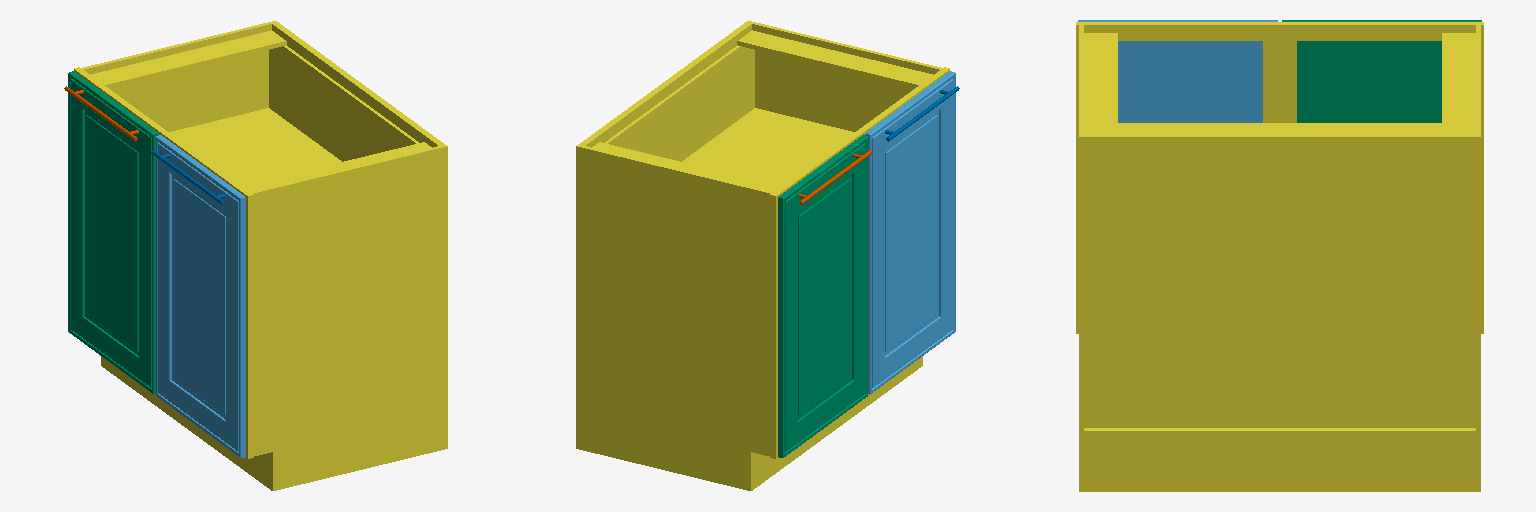
robot.urdf — partnet_1676f8b995b976e5824662341ce2b233:
<?xml version="1.0" ?>
<robot name="partnet_1676f8b995b976e5824662341ce2b233">
	<link name="base"/>
	<link name="link_0">
		<visual name="cabinet_door_surface-8">
			<origin xyz="-0.6293170790203719 -0.6086450219154358 -0.4252905637110561"/>
			<geometry>
				<mesh filename="textured_objs/original-43.obj"/>
			</geometry>
		</visual>
		<visual name="cabinet_door_surface-8">
			<origin xyz="-0.6293170790203719 -0.6086450219154358 -0.4252905637110561"/>
			<geometry>
				<mesh filename="textured_objs/original-48.obj"/>
			</geometry>
		</visual>
		<visual name="cabinet_door_surface-8">
			<origin xyz="-0.6293170790203719 -0.6086450219154358 -0.4252905637110561"/>
			<geometry>
				<mesh filename="textured_objs/original-44.obj"/>
			</geometry>
		</visual>
		<visual name="cabinet_door_surface-8">
			<origin xyz="-0.6293170790203719 -0.6086450219154358 -0.4252905637110561"/>
			<geometry>
				<mesh filename="textured_objs/original-50.obj"/>
			</geometry>
		</visual>
		<visual name="cabinet_door_surface-8">
			<origin xyz="-0.6293170790203719 -0.6086450219154358 -0.4252905637110561"/>
			<geometry>
				<mesh filename="textured_objs/original-49.obj"/>
			</geometry>
		</visual>
		<visual name="cabinet_door_surface-8">
			<origin xyz="-0.6293170790203719 -0.6086450219154358 -0.4252905637110561"/>
			<geometry>
				<mesh filename="textured_objs/original-47.obj"/>
			</geometry>
		</visual>
		<visual name="cabinet_door_surface-8">
			<origin xyz="-0.6293170790203719 -0.6086450219154358 -0.4252905637110561"/>
			<geometry>
				<mesh filename="textured_objs/original-46.obj"/>
			</geometry>
		</visual>
		<visual name="cabinet_door_surface-8">
			<origin xyz="-0.6293170790203719 -0.6086450219154358 -0.4252905637110561"/>
			<geometry>
				<mesh filename="textured_objs/original-51.obj"/>
			</geometry>
		</visual>
		<visual name="cabinet_door_surface-8">
			<origin xyz="-0.6293170790203719 -0.6086450219154358 -0.4252905637110561"/>
			<geometry>
				<mesh filename="textured_objs/original-45.obj"/>
			</geometry>
		</visual>
		<visual name="cabinet_door_surface-8">
			<origin xyz="-0.6293170790203719 -0.6086450219154358 -0.4252905637110561"/>
			<geometry>
				<mesh filename="textured_objs/original-42.obj"/>
			</geometry>
		</visual>
		<collision>
			<origin xyz="-0.6293170790203719 -0.6086450219154358 -0.4252905637110561"/>
			<geometry>
				<mesh filename="textured_objs/original-43.obj"/>
			</geometry>
		</collision>
		<collision>
			<origin xyz="-0.6293170790203719 -0.6086450219154358 -0.4252905637110561"/>
			<geometry>
				<mesh filename="textured_objs/original-48.obj"/>
			</geometry>
		</collision>
		<collision>
			<origin xyz="-0.6293170790203719 -0.6086450219154358 -0.4252905637110561"/>
			<geometry>
				<mesh filename="textured_objs/original-44.obj"/>
			</geometry>
		</collision>
		<collision>
			<origin xyz="-0.6293170790203719 -0.6086450219154358 -0.4252905637110561"/>
			<geometry>
				<mesh filename="textured_objs/original-50.obj"/>
			</geometry>
		</collision>
		<collision>
			<origin xyz="-0.6293170790203719 -0.6086450219154358 -0.4252905637110561"/>
			<geometry>
				<mesh filename="textured_objs/original-49.obj"/>
			</geometry>
		</collision>
		<collision>
			<origin xyz="-0.6293170790203719 -0.6086450219154358 -0.4252905637110561"/>
			<geometry>
				<mesh filename="textured_objs/original-47.obj"/>
			</geometry>
		</collision>
		<collision>
			<origin xyz="-0.6293170790203719 -0.6086450219154358 -0.4252905637110561"/>
			<geometry>
				<mesh filename="textured_objs/original-46.obj"/>
			</geometry>
		</collision>
		<collision>
			<origin xyz="-0.6293170790203719 -0.6086450219154358 -0.4252905637110561"/>
			<geometry>
				<mesh filename="textured_objs/original-51.obj"/>
			</geometry>
		</collision>
		<collision>
			<origin xyz="-0.6293170790203719 -0.6086450219154358 -0.4252905637110561"/>
			<geometry>
				<mesh filename="textured_objs/original-45.obj"/>
			</geometry>
		</collision>
		<collision>
			<origin xyz="-0.6293170790203719 -0.6086450219154358 -0.4252905637110561"/>
			<geometry>
				<mesh filename="textured_objs/original-42.obj"/>
			</geometry>
		</collision>
	</link>
	<joint name="joint_0" type="revolute">
		<origin xyz="0.6293170790203719 0.6086450219154358 0.4252905637110561"/>
		<axis xyz="0 0.9999999999999999 0"/>
		<child link="link_0"/>
		<parent link="link_2"/>
		<limit lower="0.0" upper="1.5707963267948966"/>
	</joint>
	<link name="link_1">
		<visual name="cabinet_door_surface-6">
			<origin xyz="0.6466144835367729 -0.6086450219154358 -0.42931528988591117"/>
			<geometry>
				<mesh filename="textured_objs/original-30.obj"/>
			</geometry>
		</visual>
		<visual name="cabinet_door_surface-6">
			<origin xyz="0.6466144835367729 -0.6086450219154358 -0.42931528988591117"/>
			<geometry>
				<mesh filename="textured_objs/original-34.obj"/>
			</geometry>
		</visual>
		<visual name="cabinet_door_surface-6">
			<origin xyz="0.6466144835367729 -0.6086450219154358 -0.42931528988591117"/>
			<geometry>
				<mesh filename="textured_objs/original-26.obj"/>
			</geometry>
		</visual>
		<visual name="cabinet_door_surface-6">
			<origin xyz="0.6466144835367729 -0.6086450219154358 -0.42931528988591117"/>
			<geometry>
				<mesh filename="textured_objs/original-32.obj"/>
			</geometry>
		</visual>
		<visual name="cabinet_door_surface-6">
			<origin xyz="0.6466144835367729 -0.6086450219154358 -0.42931528988591117"/>
			<geometry>
				<mesh filename="textured_objs/original-25.obj"/>
			</geometry>
		</visual>
		<visual name="cabinet_door_surface-6">
			<origin xyz="0.6466144835367729 -0.6086450219154358 -0.42931528988591117"/>
			<geometry>
				<mesh filename="textured_objs/original-33.obj"/>
			</geometry>
		</visual>
		<visual name="cabinet_door_surface-6">
			<origin xyz="0.6466144835367729 -0.6086450219154358 -0.42931528988591117"/>
			<geometry>
				<mesh filename="textured_objs/original-35.obj"/>
			</geometry>
		</visual>
		<visual name="cabinet_door_surface-6">
			<origin xyz="0.6466144835367729 -0.6086450219154358 -0.42931528988591117"/>
			<geometry>
				<mesh filename="textured_objs/original-27.obj"/>
			</geometry>
		</visual>
		<visual name="cabinet_door_surface-6">
			<origin xyz="0.6466144835367729 -0.6086450219154358 -0.42931528988591117"/>
			<geometry>
				<mesh filename="textured_objs/original-28.obj"/>
			</geometry>
		</visual>
		<visual name="cabinet_door_surface-6">
			<origin xyz="0.6466144835367729 -0.6086450219154358 -0.42931528988591117"/>
			<geometry>
				<mesh filename="textured_objs/original-31.obj"/>
			</geometry>
		</visual>
		<collision>
			<origin xyz="0.6466144835367729 -0.6086450219154358 -0.42931528988591117"/>
			<geometry>
				<mesh filename="textured_objs/original-30.obj"/>
			</geometry>
		</collision>
		<collision>
			<origin xyz="0.6466144835367729 -0.6086450219154358 -0.42931528988591117"/>
			<geometry>
				<mesh filename="textured_objs/original-34.obj"/>
			</geometry>
		</collision>
		<collision>
			<origin xyz="0.6466144835367729 -0.6086450219154358 -0.42931528988591117"/>
			<geometry>
				<mesh filename="textured_objs/original-26.obj"/>
			</geometry>
		</collision>
		<collision>
			<origin xyz="0.6466144835367729 -0.6086450219154358 -0.42931528988591117"/>
			<geometry>
				<mesh filename="textured_objs/original-32.obj"/>
			</geometry>
		</collision>
		<collision>
			<origin xyz="0.6466144835367729 -0.6086450219154358 -0.42931528988591117"/>
			<geometry>
				<mesh filename="textured_objs/original-25.obj"/>
			</geometry>
		</collision>
		<collision>
			<origin xyz="0.6466144835367729 -0.6086450219154358 -0.42931528988591117"/>
			<geometry>
				<mesh filename="textured_objs/original-33.obj"/>
			</geometry>
		</collision>
		<collision>
			<origin xyz="0.6466144835367729 -0.6086450219154358 -0.42931528988591117"/>
			<geometry>
				<mesh filename="textured_objs/original-35.obj"/>
			</geometry>
		</collision>
		<collision>
			<origin xyz="0.6466144835367729 -0.6086450219154358 -0.42931528988591117"/>
			<geometry>
				<mesh filename="textured_objs/original-27.obj"/>
			</geometry>
		</collision>
		<collision>
			<origin xyz="0.6466144835367729 -0.6086450219154358 -0.42931528988591117"/>
			<geometry>
				<mesh filename="textured_objs/original-28.obj"/>
			</geometry>
		</collision>
		<collision>
			<origin xyz="0.6466144835367729 -0.6086450219154358 -0.42931528988591117"/>
			<geometry>
				<mesh filename="textured_objs/original-31.obj"/>
			</geometry>
		</collision>
	</link>
	<joint name="joint_1" type="revolute">
		<origin xyz="-0.6466144835367729 0.6086450219154358 0.42931528988591117"/>
		<axis xyz="0 -0.9999999999999999 0"/>
		<child link="link_1"/>
		<parent link="link_2"/>
		<limit lower="-0.0" upper="1.5707963267948966"/>
	</joint>
	<link name="link_2">
		<visual name="shelf-23">
			<origin xyz="0 0 0"/>
			<geometry>
				<mesh filename="textured_objs/original-23.obj"/>
			</geometry>
		</visual>
		<visual name="shelf-24">
			<origin xyz="0 0 0"/>
			<geometry>
				<mesh filename="textured_objs/original-2.obj"/>
			</geometry>
		</visual>
		<visual name="back_panel-18">
			<origin xyz="0 0 0"/>
			<geometry>
				<mesh filename="textured_objs/original-6.obj"/>
			</geometry>
		</visual>
		<visual name="bottom_panel-19">
			<origin xyz="0 0 0"/>
			<geometry>
				<mesh filename="textured_objs/original-3.obj"/>
			</geometry>
		</visual>
		<visual name="vertical_side_panel-25">
			<origin xyz="0 0 0"/>
			<geometry>
				<mesh filename="textured_objs/original-12.obj"/>
			</geometry>
		</visual>
		<visual name="vertical_side_panel-25">
			<origin xyz="0 0 0"/>
			<geometry>
				<mesh filename="textured_objs/original-11.obj"/>
			</geometry>
		</visual>
		<visual name="vertical_side_panel-26">
			<origin xyz="0 0 0"/>
			<geometry>
				<mesh filename="textured_objs/original-16.obj"/>
			</geometry>
		</visual>
		<visual name="vertical_side_panel-26">
			<origin xyz="0 0 0"/>
			<geometry>
				<mesh filename="textured_objs/original-15.obj"/>
			</geometry>
		</visual>
		<visual name="frame_vertical_bar-27">
			<origin xyz="0 0 0"/>
			<geometry>
				<mesh filename="textured_objs/original-8.obj"/>
			</geometry>
		</visual>
		<visual name="frame_vertical_bar-28">
			<origin xyz="0 0 0"/>
			<geometry>
				<mesh filename="textured_objs/original-4.obj"/>
			</geometry>
		</visual>
		<visual name="frame_vertical_bar-29">
			<origin xyz="0 0 0"/>
			<geometry>
				<mesh filename="textured_objs/original-18.obj"/>
			</geometry>
		</visual>
		<visual name="frame_horizontal_bar-30">
			<origin xyz="0 0 0"/>
			<geometry>
				<mesh filename="textured_objs/original-22.obj"/>
			</geometry>
		</visual>
		<visual name="frame_horizontal_bar-31">
			<origin xyz="0 0 0"/>
			<geometry>
				<mesh filename="textured_objs/original-21.obj"/>
			</geometry>
		</visual>
		<visual name="frame_horizontal_bar-32">
			<origin xyz="0 0 0"/>
			<geometry>
				<mesh filename="textured_objs/original-5.obj"/>
			</geometry>
		</visual>
		<visual name="frame_horizontal_bar-33">
			<origin xyz="0 0 0"/>
			<geometry>
				<mesh filename="textured_objs/original-9.obj"/>
			</geometry>
		</visual>
		<visual name="frame_horizontal_bar-34">
			<origin xyz="0 0 0"/>
			<geometry>
				<mesh filename="textured_objs/original-7.obj"/>
			</geometry>
		</visual>
		<visual name="other_leaf-36">
			<origin xyz="0 0 0"/>
			<geometry>
				<mesh filename="textured_objs/original-56.obj"/>
			</geometry>
		</visual>
		<visual name="base_side_panel-11">
			<origin xyz="0 0 0"/>
			<geometry>
				<mesh filename="textured_objs/original-13.obj"/>
			</geometry>
		</visual>
		<visual name="base_side_panel-12">
			<origin xyz="0 0 0"/>
			<geometry>
				<mesh filename="textured_objs/original-19.obj"/>
			</geometry>
		</visual>
		<visual name="base_side_panel-13">
			<origin xyz="0 0 0"/>
			<geometry>
				<mesh filename="textured_objs/original-17.obj"/>
			</geometry>
		</visual>
		<visual name="base_side_panel-14">
			<origin xyz="0 0 0"/>
			<geometry>
				<mesh filename="textured_objs/original-20.obj"/>
			</geometry>
		</visual>
		<collision>
			<origin xyz="0 0 0"/>
			<geometry>
				<mesh filename="textured_objs/original-23.obj"/>
			</geometry>
		</collision>
		<collision>
			<origin xyz="0 0 0"/>
			<geometry>
				<mesh filename="textured_objs/original-2.obj"/>
			</geometry>
		</collision>
		<collision>
			<origin xyz="0 0 0"/>
			<geometry>
				<mesh filename="textured_objs/original-6.obj"/>
			</geometry>
		</collision>
		<collision>
			<origin xyz="0 0 0"/>
			<geometry>
				<mesh filename="textured_objs/original-3.obj"/>
			</geometry>
		</collision>
		<collision>
			<origin xyz="0 0 0"/>
			<geometry>
				<mesh filename="textured_objs/original-12.obj"/>
			</geometry>
		</collision>
		<collision>
			<origin xyz="0 0 0"/>
			<geometry>
				<mesh filename="textured_objs/original-11.obj"/>
			</geometry>
		</collision>
		<collision>
			<origin xyz="0 0 0"/>
			<geometry>
				<mesh filename="textured_objs/original-16.obj"/>
			</geometry>
		</collision>
		<collision>
			<origin xyz="0 0 0"/>
			<geometry>
				<mesh filename="textured_objs/original-15.obj"/>
			</geometry>
		</collision>
		<collision>
			<origin xyz="0 0 0"/>
			<geometry>
				<mesh filename="textured_objs/original-8.obj"/>
			</geometry>
		</collision>
		<collision>
			<origin xyz="0 0 0"/>
			<geometry>
				<mesh filename="textured_objs/original-4.obj"/>
			</geometry>
		</collision>
		<collision>
			<origin xyz="0 0 0"/>
			<geometry>
				<mesh filename="textured_objs/original-18.obj"/>
			</geometry>
		</collision>
		<collision>
			<origin xyz="0 0 0"/>
			<geometry>
				<mesh filename="textured_objs/original-22.obj"/>
			</geometry>
		</collision>
		<collision>
			<origin xyz="0 0 0"/>
			<geometry>
				<mesh filename="textured_objs/original-21.obj"/>
			</geometry>
		</collision>
		<collision>
			<origin xyz="0 0 0"/>
			<geometry>
				<mesh filename="textured_objs/original-5.obj"/>
			</geometry>
		</collision>
		<collision>
			<origin xyz="0 0 0"/>
			<geometry>
				<mesh filename="textured_objs/original-9.obj"/>
			</geometry>
		</collision>
		<collision>
			<origin xyz="0 0 0"/>
			<geometry>
				<mesh filename="textured_objs/original-7.obj"/>
			</geometry>
		</collision>
		<collision>
			<origin xyz="0 0 0"/>
			<geometry>
				<mesh filename="textured_objs/original-56.obj"/>
			</geometry>
		</collision>
		<collision>
			<origin xyz="0 0 0"/>
			<geometry>
				<mesh filename="textured_objs/original-13.obj"/>
			</geometry>
		</collision>
		<collision>
			<origin xyz="0 0 0"/>
			<geometry>
				<mesh filename="textured_objs/original-19.obj"/>
			</geometry>
		</collision>
		<collision>
			<origin xyz="0 0 0"/>
			<geometry>
				<mesh filename="textured_objs/original-17.obj"/>
			</geometry>
		</collision>
		<collision>
			<origin xyz="0 0 0"/>
			<geometry>
				<mesh filename="textured_objs/original-20.obj"/>
			</geometry>
		</collision>
	</link>
	<joint name="joint_2" type="fixed">
		<origin rpy="1.570796326794897 0 -1.570796326794897" xyz="0 0 0"/>
		<child link="link_2"/>
		<parent link="base"/>
	</joint>
	<link name="link_3">
		<visual name="handle-1">
			<origin xyz="-0.6293170790203719 -0.6086450219154358 -0.4252905637110561"/>
			<geometry>
				<mesh filename="textured_objs/original-55.obj"/>
			</geometry>
		</visual>
		<visual name="handle-1">
			<origin xyz="-0.6293170790203719 -0.6086450219154358 -0.4252905637110561"/>
			<geometry>
				<mesh filename="textured_objs/original-53.obj"/>
			</geometry>
		</visual>
		<visual name="handle-1">
			<origin xyz="-0.6293170790203719 -0.6086450219154358 -0.4252905637110561"/>
			<geometry>
				<mesh filename="textured_objs/original-54.obj"/>
			</geometry>
		</visual>
		<collision>
			<origin xyz="-0.6293170790203719 -0.6086450219154358 -0.4252905637110561"/>
			<geometry>
				<mesh filename="textured_objs/original-55.obj"/>
			</geometry>
		</collision>
		<collision>
			<origin xyz="-0.6293170790203719 -0.6086450219154358 -0.4252905637110561"/>
			<geometry>
				<mesh filename="textured_objs/original-53.obj"/>
			</geometry>
		</collision>
		<collision>
			<origin xyz="-0.6293170790203719 -0.6086450219154358 -0.4252905637110561"/>
			<geometry>
				<mesh filename="textured_objs/original-54.obj"/>
			</geometry>
		</collision>
	</link>
	<joint name="joint_3" type="fixed">
		<origin rpy="0 0 0" xyz="0 0 0"/>
		<child link="link_3"/>
		<parent link="link_0"/>
	</joint>
	<link name="link_4">
		<visual name="handle-1">
			<origin xyz="0.6466144835367729 -0.6086450219154358 -0.42931528988591117"/>
			<geometry>
				<mesh filename="textured_objs/original-39.obj"/>
			</geometry>
		</visual>
		<visual name="handle-1">
			<origin xyz="0.6466144835367729 -0.6086450219154358 -0.42931528988591117"/>
			<geometry>
				<mesh filename="textured_objs/original-38.obj"/>
			</geometry>
		</visual>
		<visual name="handle-1">
			<origin xyz="0.6466144835367729 -0.6086450219154358 -0.42931528988591117"/>
			<geometry>
				<mesh filename="textured_objs/original-37.obj"/>
			</geometry>
		</visual>
		<collision>
			<origin xyz="0.6466144835367729 -0.6086450219154358 -0.42931528988591117"/>
			<geometry>
				<mesh filename="textured_objs/original-39.obj"/>
			</geometry>
		</collision>
		<collision>
			<origin xyz="0.6466144835367729 -0.6086450219154358 -0.42931528988591117"/>
			<geometry>
				<mesh filename="textured_objs/original-38.obj"/>
			</geometry>
		</collision>
		<collision>
			<origin xyz="0.6466144835367729 -0.6086450219154358 -0.42931528988591117"/>
			<geometry>
				<mesh filename="textured_objs/original-37.obj"/>
			</geometry>
		</collision>
	</link>
	<joint name="joint_4" type="fixed">
		<origin rpy="0 0 0" xyz="0 0 0"/>
		<child link="link_4"/>
		<parent link="link_1"/>
	</joint>
</robot>

--- What the picture shows (computed from the rendered views, not written in the file) ---
Views: 3 orthographic renders of the robot side by side, from view 1: azimuth 30°, elevation 25°; view 2: azimuth 150°, elevation 25°; view 3: azimuth 270°, elevation 25°.
Robot: partnet_1676f8b995b976e5824662341ce2b233 — 6 links, 5 joints (2 revolute, 3 fixed); root link base; default pose: every joint at zero.
Links seen in each view (by area): view 1: link_2, link_0, link_1; view 2: link_2, link_1, link_0; view 3: link_2, link_0, link_1.
Link boxes in pixels (bbox=[...]): link_2: bbox=[74, 21, 447, 490]; link_0: bbox=[156, 135, 245, 457]; link_1: bbox=[68, 71, 158, 394]; link_2: bbox=[576, 21, 949, 490]; link_1: bbox=[778, 135, 867, 457]; link_0: bbox=[865, 71, 955, 394]; link_2: bbox=[1076, 22, 1483, 491]; link_0: bbox=[1078, 20, 1277, 122]; link_1: bbox=[1282, 20, 1481, 122].
Size in the robot's own frame: 0.9502 by 1.31 by 1.25 metres.
47 mesh visuals loaded from 47 distinct referenced files (47 OBJ).